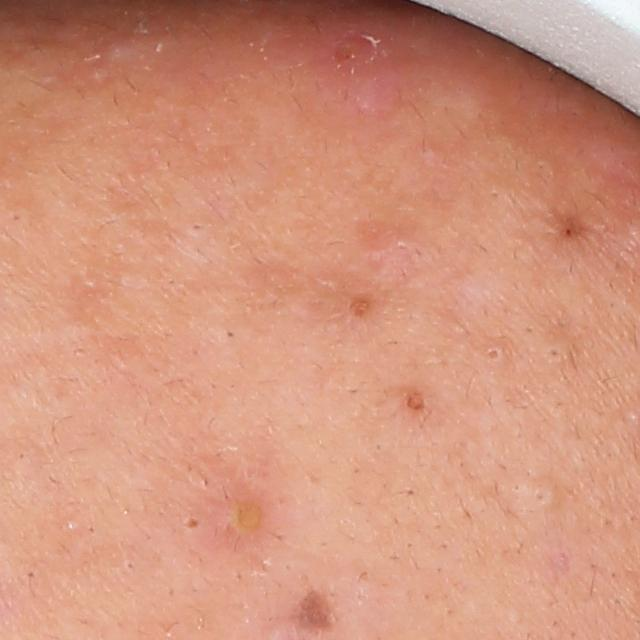comedo: (524, 481, 561, 513), (339, 294, 371, 321), (477, 343, 510, 365), (176, 508, 201, 533), (542, 342, 563, 369), (405, 388, 428, 411), (24, 568, 41, 583), (222, 327, 238, 342), (189, 221, 205, 233)
other: (300, 590, 337, 634)
